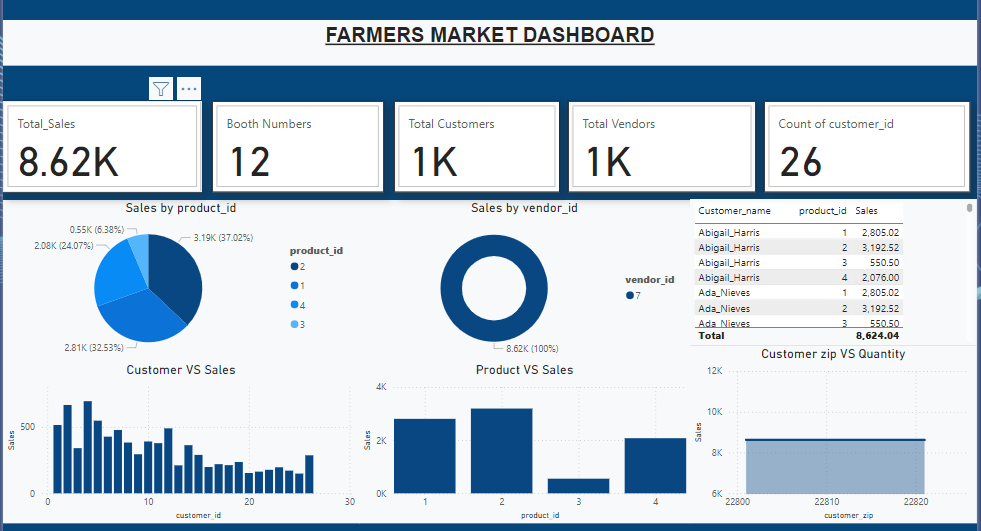

What the dashboard file says about the page in this screenshot:
{"tool":"powerbi","page":{"name":"Sales Wise Analysis","canvas":[1280,720],"ordinal":1},"visuals":[{"type":"columnChart","title":"Customer VS Sales","fields":{"Category":["customer_purchases.customer_id"],"Y":["customer_purchases.Sales"]},"box":[0,488.8,467.7,211.5],"z":0},{"type":"pieChart","fields":{"Category":["customer_purchases.product_id"],"Y":["customer_purchases.Sales"]},"box":[0,275.9,467.7,212.8],"z":1000},{"type":"columnChart","title":"Product VS Sales","fields":{"Category":["customer_purchases.product_id"],"Y":["customer_purchases.Sales"]},"box":[467.7,488.8,434.9,211.5],"z":2000},{"type":"donutChart","fields":{"Category":["customer_purchases.vendor_id"],"Y":["customer_purchases.Sales"]},"box":[467.7,275.9,434.9,212.8],"z":3000},{"type":"textbox","box":[0,39.4,1279.7,60.4],"z":4000},{"type":"cardVisual","fields":{"Data":["customer_purchases.customer_id"]},"box":[513.7,145.8,218.1,119.6],"z":5000},{"type":"cardVisual","fields":{"Data":["customer_purchases.Total_Sales"]},"box":[0,145.8,261.5,119.6],"z":6000},{"type":"cardVisual","fields":{"Data":["booth.booth_number"]},"box":[274.6,145.8,226,119.6],"z":7000},{"type":"cardVisual","fields":{"Data":["customer_purchases.vendor_id"]},"box":[742.3,145.8,247,119.6],"z":8000},{"type":"cardVisual","fields":{"Data":["customer.customer_id"]},"box":[999.9,145.8,270.7,119.6],"z":9000},{"type":"areaChart","title":"Customer zip VS Quantity","fields":{"Category":["customer.customer_zip"],"Y":["customer_purchases.Sales"]},"box":[902.6,467.7,377.1,232.6],"z":10000},{"type":"tableEx","fields":{"Values":["customer.Customer_name","customer_purchases.product_id","customer_purchases.Sales"]},"box":[902.6,274.6,377.1,193.1],"z":11000}]}

Visuals, with their boxes on the page's 1280x720 design canvas (x1, y1, x2, y2). These are canvas units, not pixel positions in the 981x531 screenshot, which may show the page scaled, cropped or inside an application window:
"Customer VS Sales" columnChart: bbox=(0, 489, 468, 700)
pieChart - customer_purchases.product_id x customer_purchases.Sales: bbox=(0, 276, 468, 489)
"Product VS Sales" columnChart: bbox=(468, 489, 903, 700)
donutChart - customer_purchases.vendor_id x customer_purchases.Sales: bbox=(468, 276, 903, 489)
textbox: bbox=(0, 39, 1280, 100)
cardVisual - customer_purchases.customer_id: bbox=(514, 146, 732, 265)
cardVisual - customer_purchases.Total_Sales: bbox=(0, 146, 262, 265)
cardVisual - booth.booth_number: bbox=(275, 146, 501, 265)
cardVisual - customer_purchases.vendor_id: bbox=(742, 146, 989, 265)
cardVisual - customer.customer_id: bbox=(1000, 146, 1271, 265)
"Customer zip VS Quantity" areaChart: bbox=(903, 468, 1280, 700)
tableEx - customer.Customer_name x customer_purchases.product_id: bbox=(903, 275, 1280, 468)
